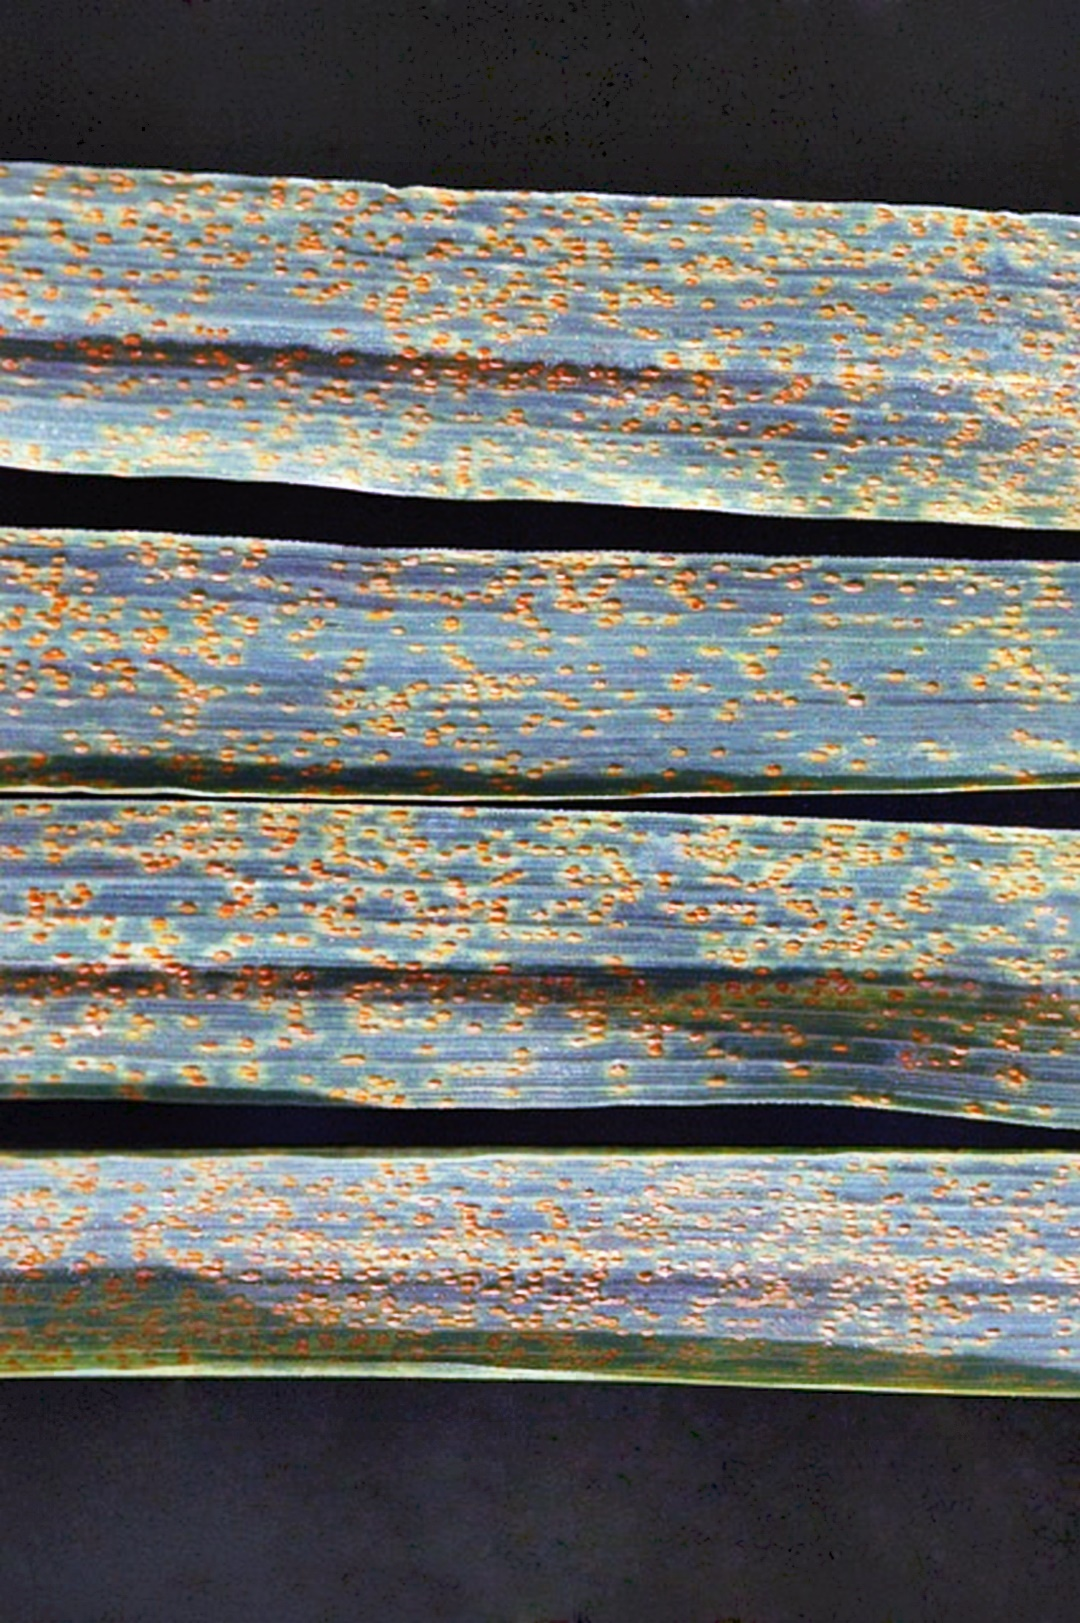Leaf Rust: (19, 158, 1019, 821), (39, 818, 1067, 1353)
